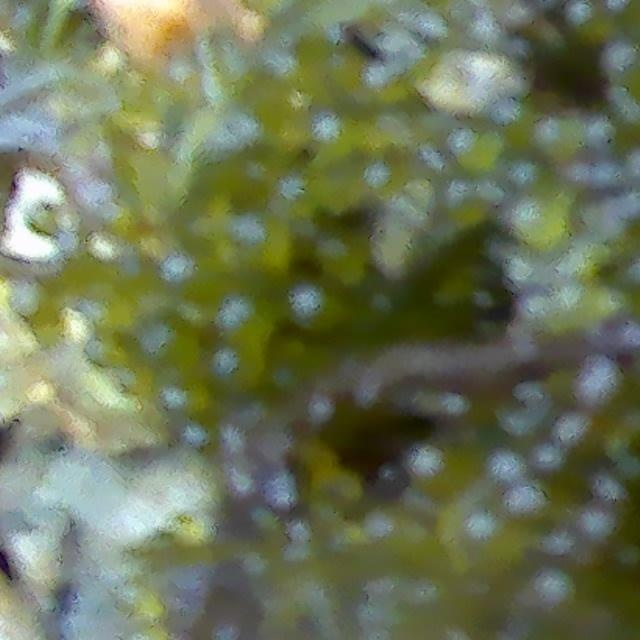SeaGrape: (428, 49, 499, 114), (460, 504, 519, 571), (132, 309, 196, 369), (508, 192, 569, 252), (230, 213, 291, 273), (410, 439, 468, 502), (553, 416, 610, 466), (219, 294, 269, 346), (528, 443, 581, 488), (211, 346, 265, 388), (505, 250, 540, 286)
